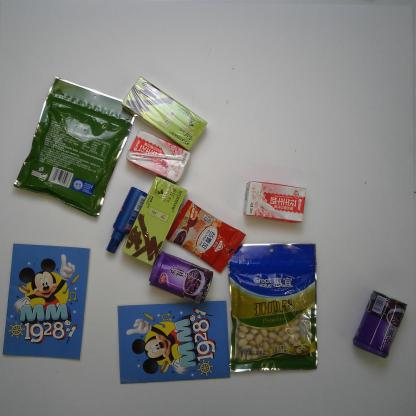Canned Food: (351, 288, 409, 361), (146, 250, 215, 307)
Dried Fruit: (10, 73, 139, 221), (223, 238, 324, 376)
Instant Drink: (119, 74, 209, 154), (120, 171, 190, 269), (162, 197, 247, 275)
Milk: (124, 128, 192, 185), (242, 179, 308, 225)
Personal Hygiene: (104, 186, 149, 256)
Stationery: (1, 242, 92, 363), (115, 297, 234, 386)
